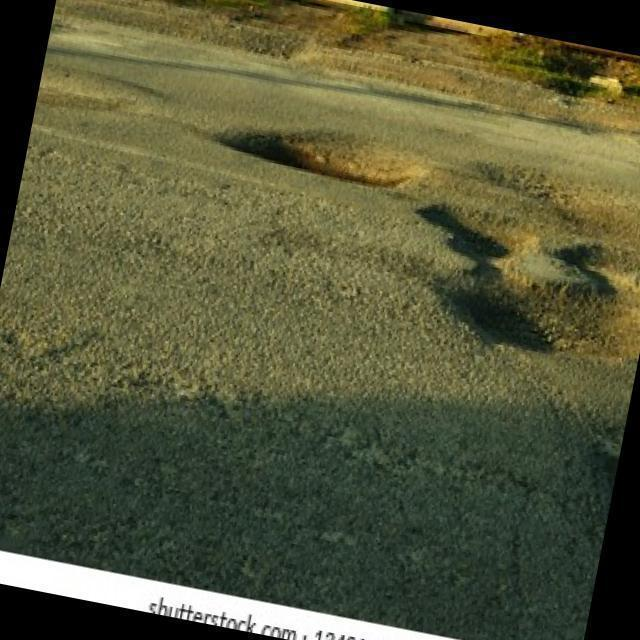pothole: (414, 232, 640, 378), (460, 152, 640, 273), (215, 105, 433, 202), (567, 403, 629, 592), (412, 195, 545, 268), (34, 62, 162, 137)
